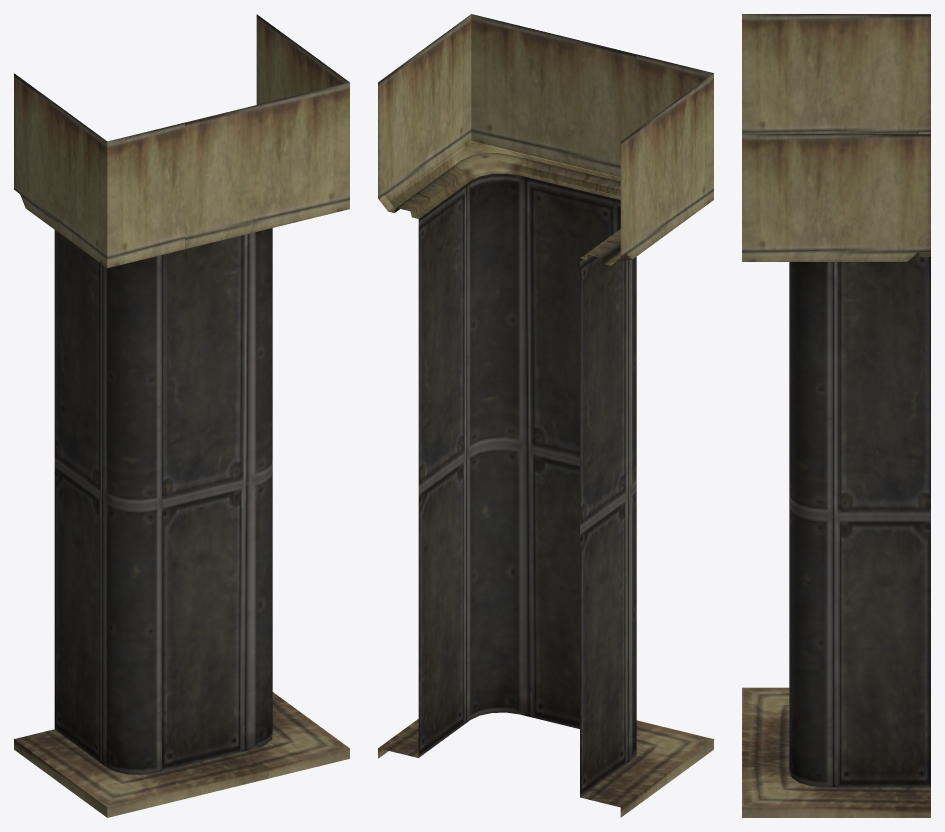
The model's file is pplant_ground_divider.dae.
3 renders of one model, left to right at view 1: azimuth 30°, elevation 25°; view 2: azimuth 150°, elevation 25°; view 3: azimuth 270°, elevation 25°, orthographic.
Parts seen in each view (by area): view 1: pplant_ground_divider; view 2: pplant_ground_divider; view 3: pplant_ground_divider.
Part boxes in pixels (x1,y1,x2,y2): pplant_ground_divider: (14, 14, 349, 817); pplant_ground_divider: (378, 14, 713, 817); pplant_ground_divider: (742, 14, 930, 817).
Bounding box in the file's own units: 1.5 × 4 × 1.
